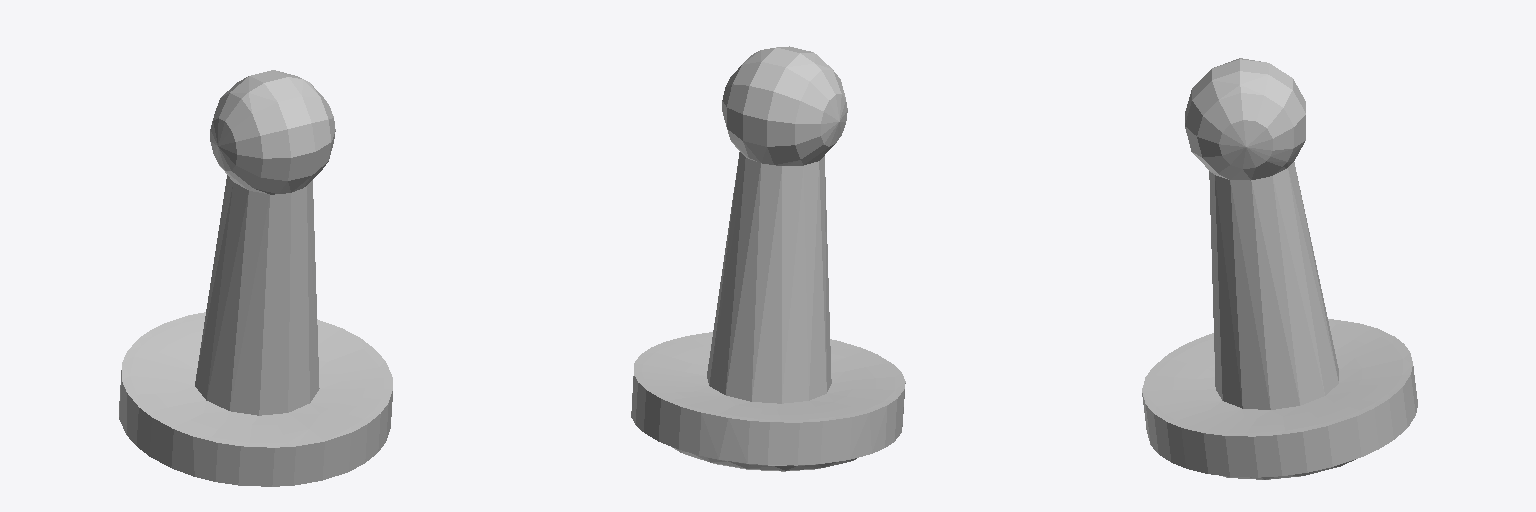
File: LeftThumb.obj
The picture shows the model from 3 angles: view 1: azimuth 30°, elevation 25°; view 2: azimuth 150°, elevation 25°; view 3: azimuth 270°, elevation 25°; orthographic projection.
Visible parts, largest first — view 1: RightThumb; view 2: RightThumb; view 3: RightThumb.
Part boxes in pixels (left/top/right/bottom): RightThumb: left=119, top=70, right=392, bottom=486; RightThumb: left=631, top=46, right=905, bottom=471; RightThumb: left=1142, top=58, right=1417, bottom=479.
Bounding box in the file's own units: 10.71 × 16.51 × 10.84.